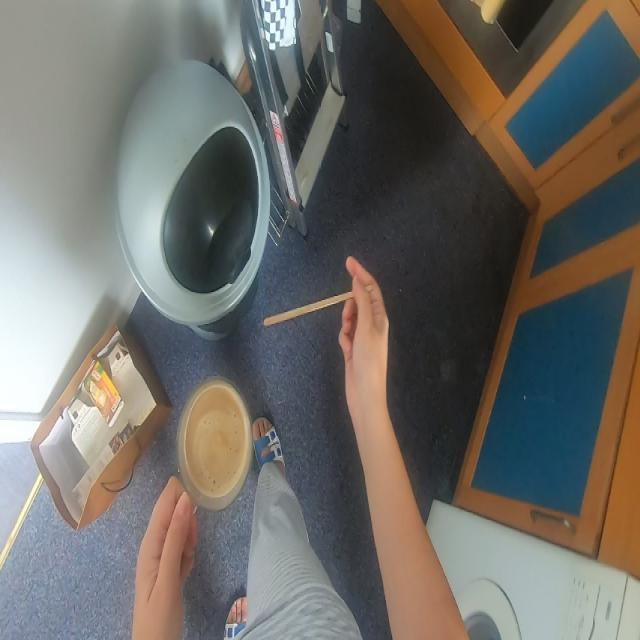bin: (120, 58, 268, 350)
left hand: (130, 457, 200, 640)
mug: (178, 383, 253, 514)
right hand: (337, 248, 397, 460)
